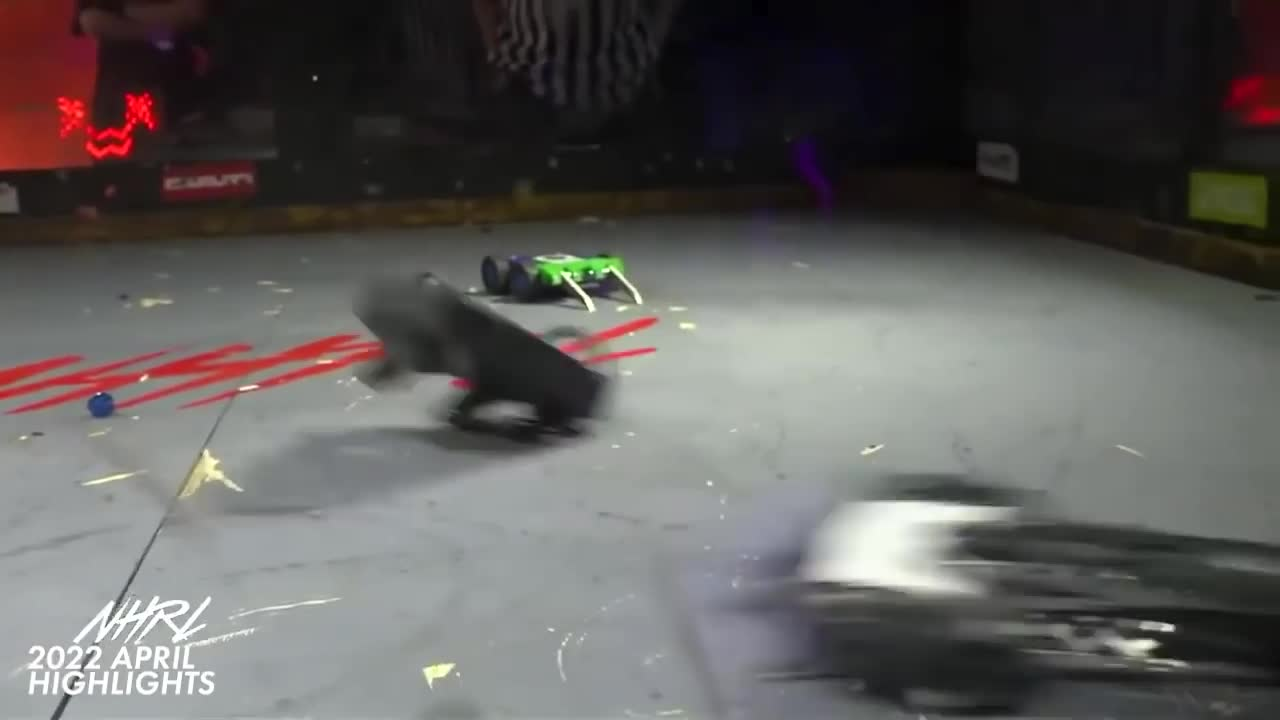combatbot: (709, 472, 1280, 720), (352, 267, 618, 453), (482, 250, 645, 314)
